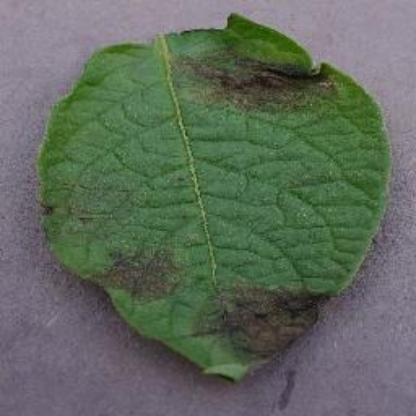Late-Blight: (36, 7, 394, 387)
